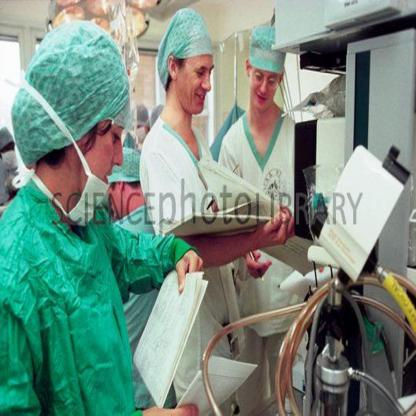face: (89, 96, 127, 206), (179, 50, 213, 114), (253, 61, 276, 109)
